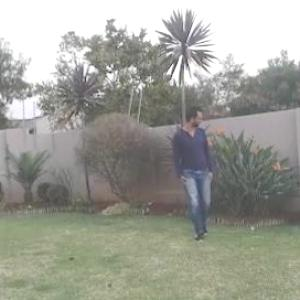follow: (168, 92, 220, 254)
